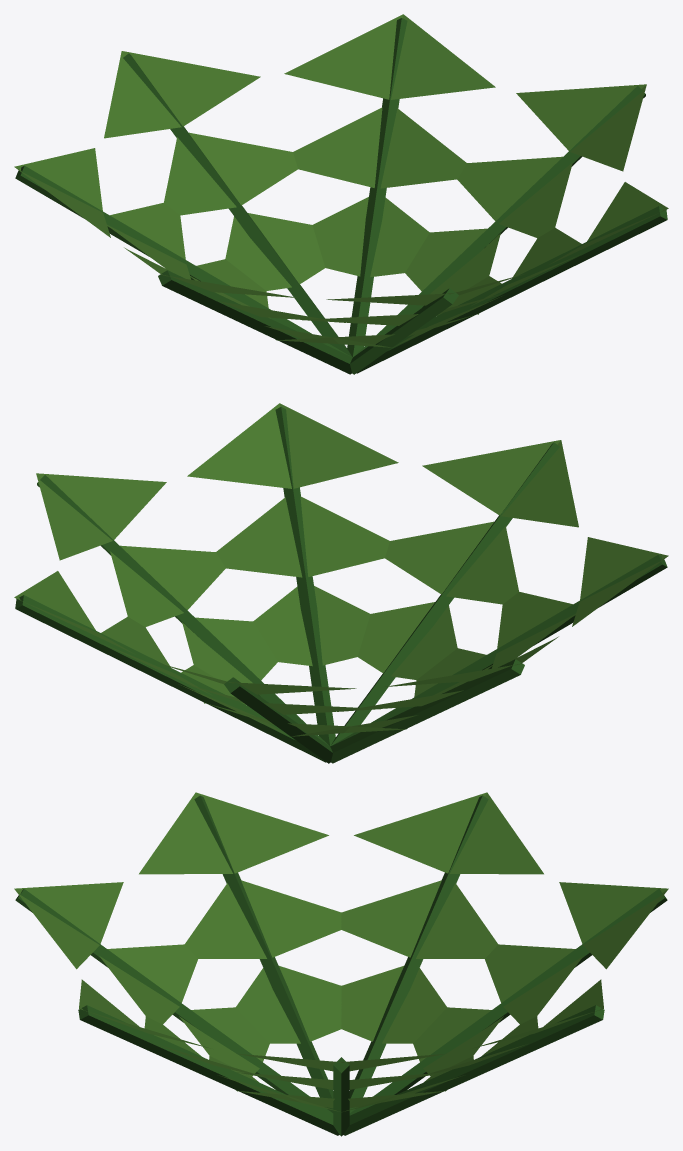
Rendered from Fern.fbx.
3 renders of one model, top to bottom at view 1: azimuth 30°, elevation 25°; view 2: azimuth 150°, elevation 25°; view 3: azimuth 270°, elevation 25°, orthographic.
Visible parts, largest first — view 1: Fern_Mesh; view 2: Fern_Mesh; view 3: Fern_Mesh.
Boxes of the visible parts, box(x1,y1,x2,y2) form: Fern_Mesh: box(14, 14, 668, 374); Fern_Mesh: box(14, 403, 668, 763); Fern_Mesh: box(14, 792, 668, 1136).
Bounding box in the file's own units: 0.5418 × 0.2016 × 0.5557.
